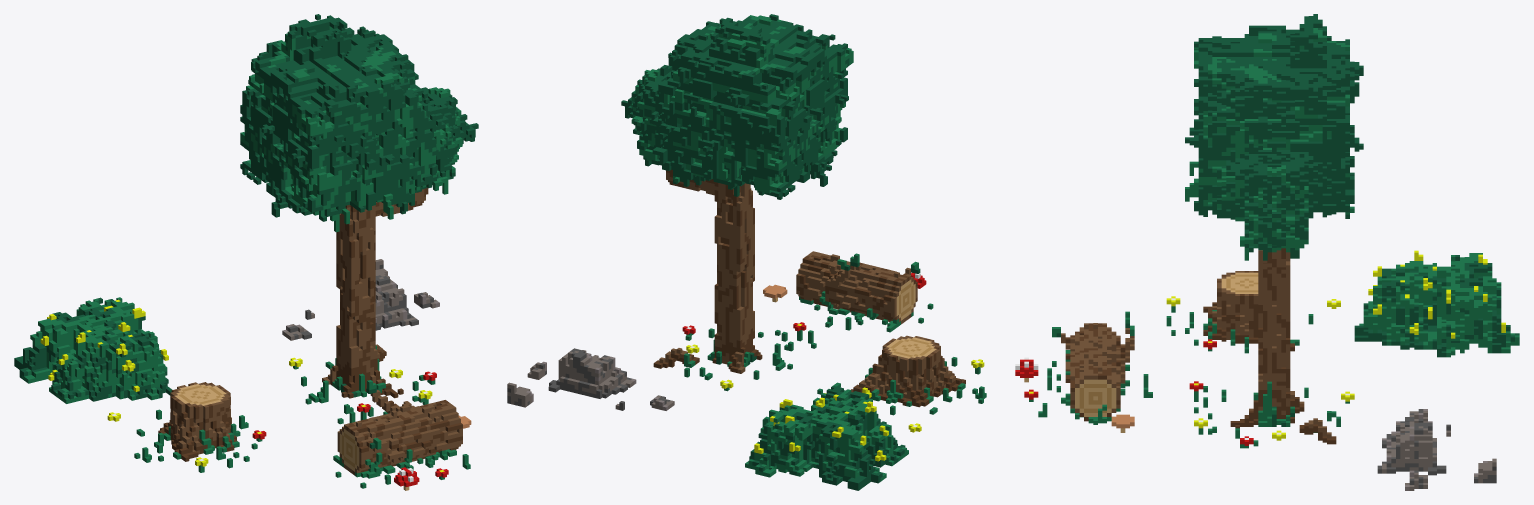
File: voxel_models.glb
3 renders of one model, left to right at view 1: azimuth 30°, elevation 25°; view 2: azimuth 150°, elevation 25°; view 3: azimuth 270°, elevation 25°, orthographic. The views are drawn at different scales.
Parts seen in each view (by area): view 1: Object_2; view 2: Object_2; view 3: Object_2.
Part boxes in pixels (x1,y1,x2,y2): Object_2: (14, 14, 478, 490); Object_2: (507, 14, 986, 490); Object_2: (1015, 14, 1519, 490).
Size of the model in its own units: 3.37 by 2.98 by 3.6.
1 material, 1 textured.
